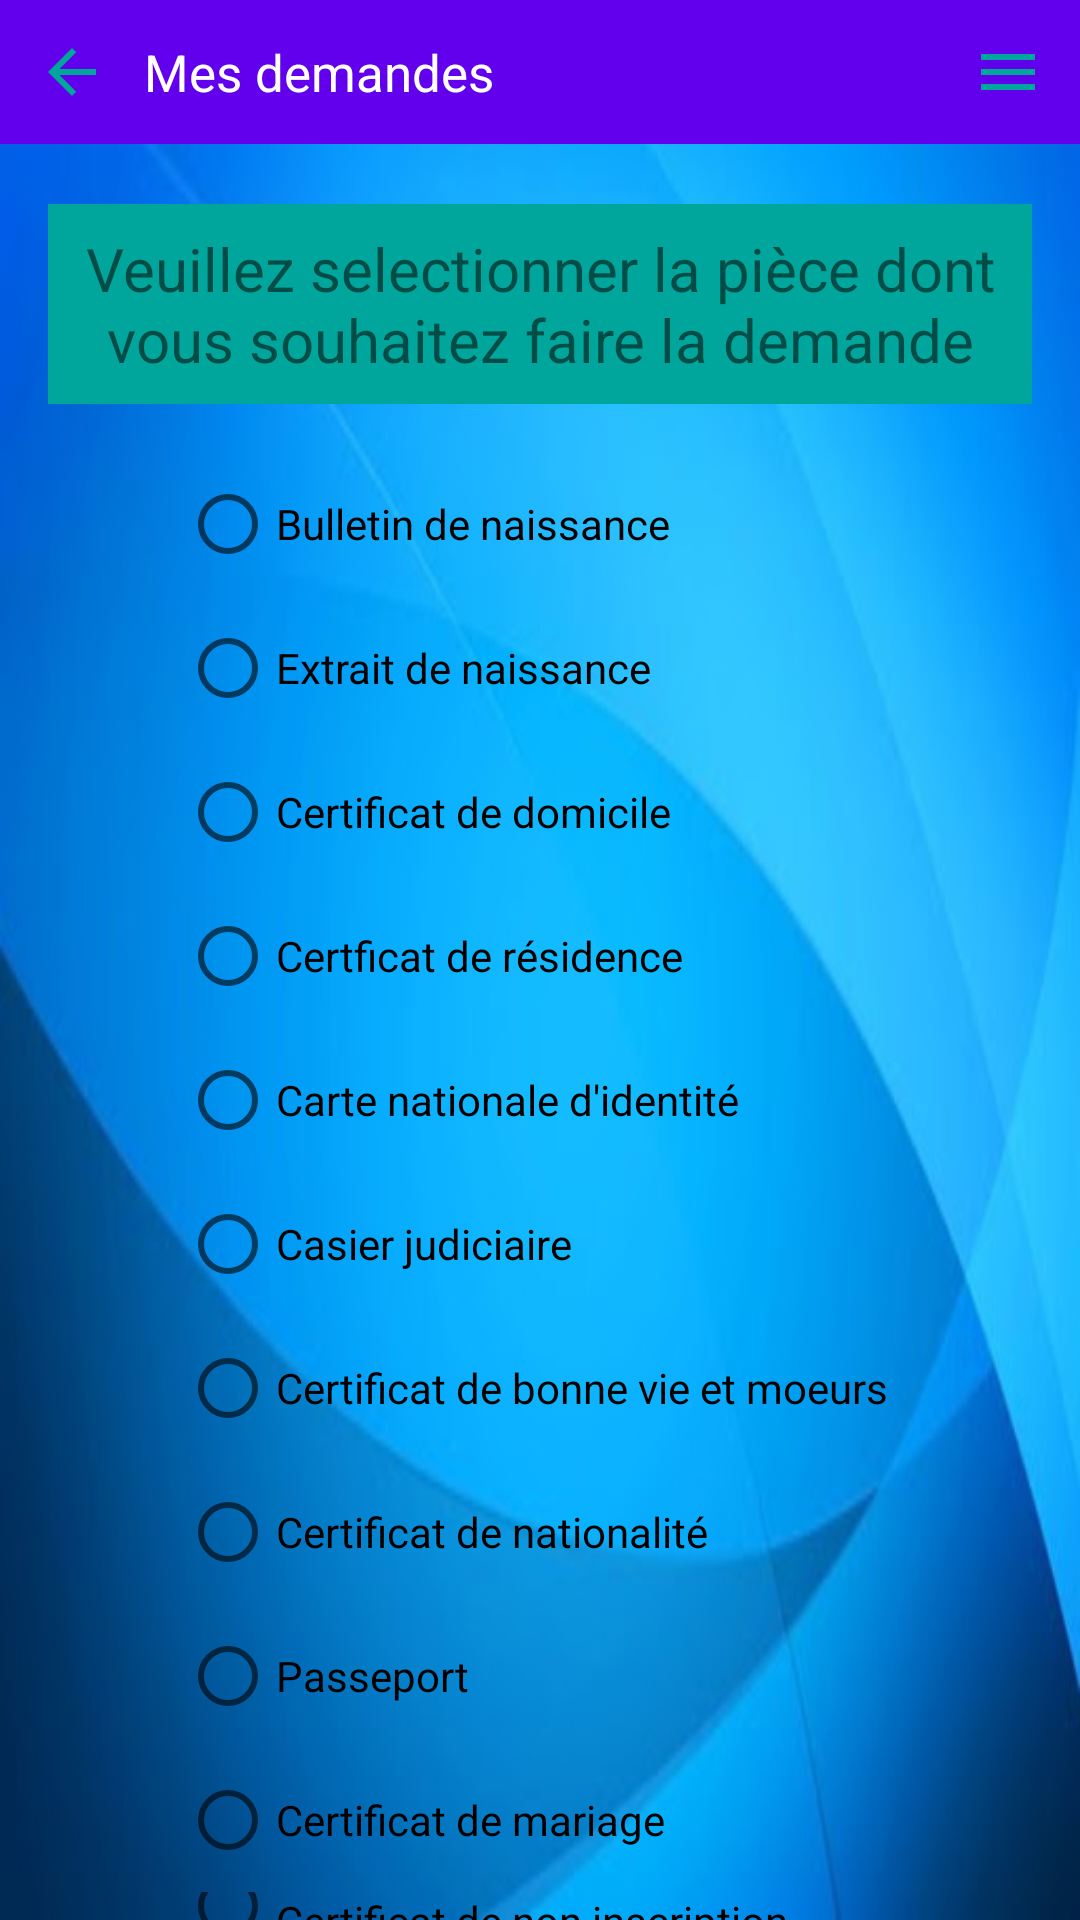

Where to tap for icons on this 1080 × 1920 app screen, as point (x, y):
bouton de retour: point (72, 72)
menu: point (1008, 72)
